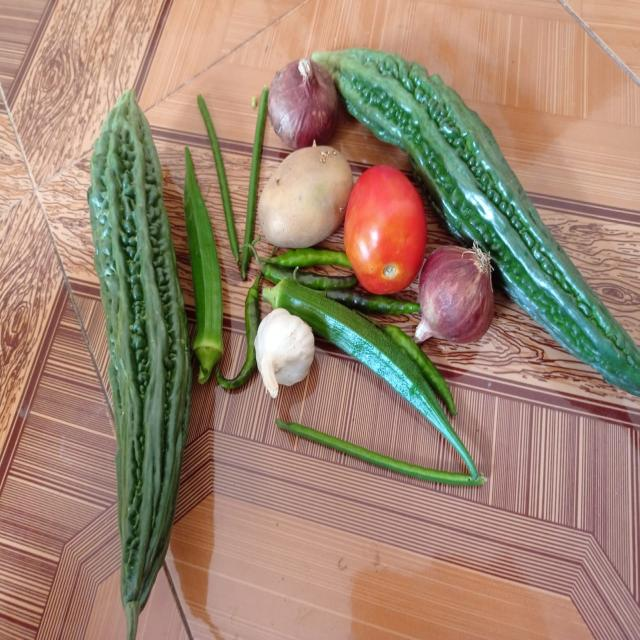Organik: (86, 89, 194, 632), (174, 142, 230, 391), (276, 421, 481, 483), (412, 238, 503, 349), (345, 164, 427, 284), (258, 152, 352, 252), (208, 94, 266, 243), (262, 58, 342, 145), (254, 306, 316, 406)
